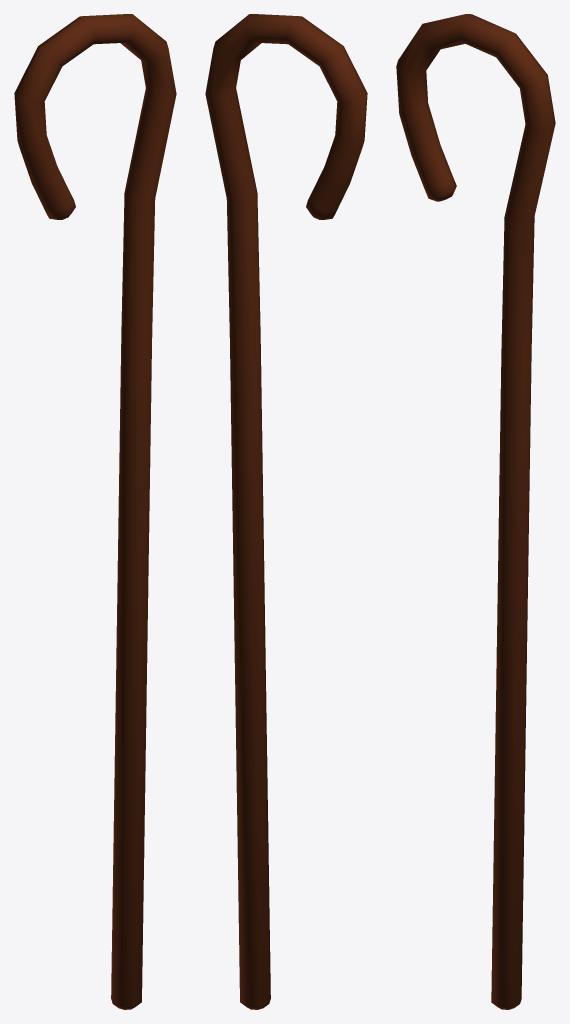
Rendered from Shephards Crook.fbx.
3 renders of one model, left to right at view 1: azimuth 30°, elevation 25°; view 2: azimuth 150°, elevation 25°; view 3: azimuth 330°, elevation 25°, orthographic.
Visible parts, largest first — view 1: Cylinder; view 2: Cylinder; view 3: Cylinder.
Boxes of the visible parts, <box> form: Cylinder: <box>14,14,176,1009</box>; Cylinder: <box>205,14,367,1009</box>; Cylinder: <box>396,14,555,1009</box>.
Size of the model in its own units: 459 by 2761 by 79.9.
